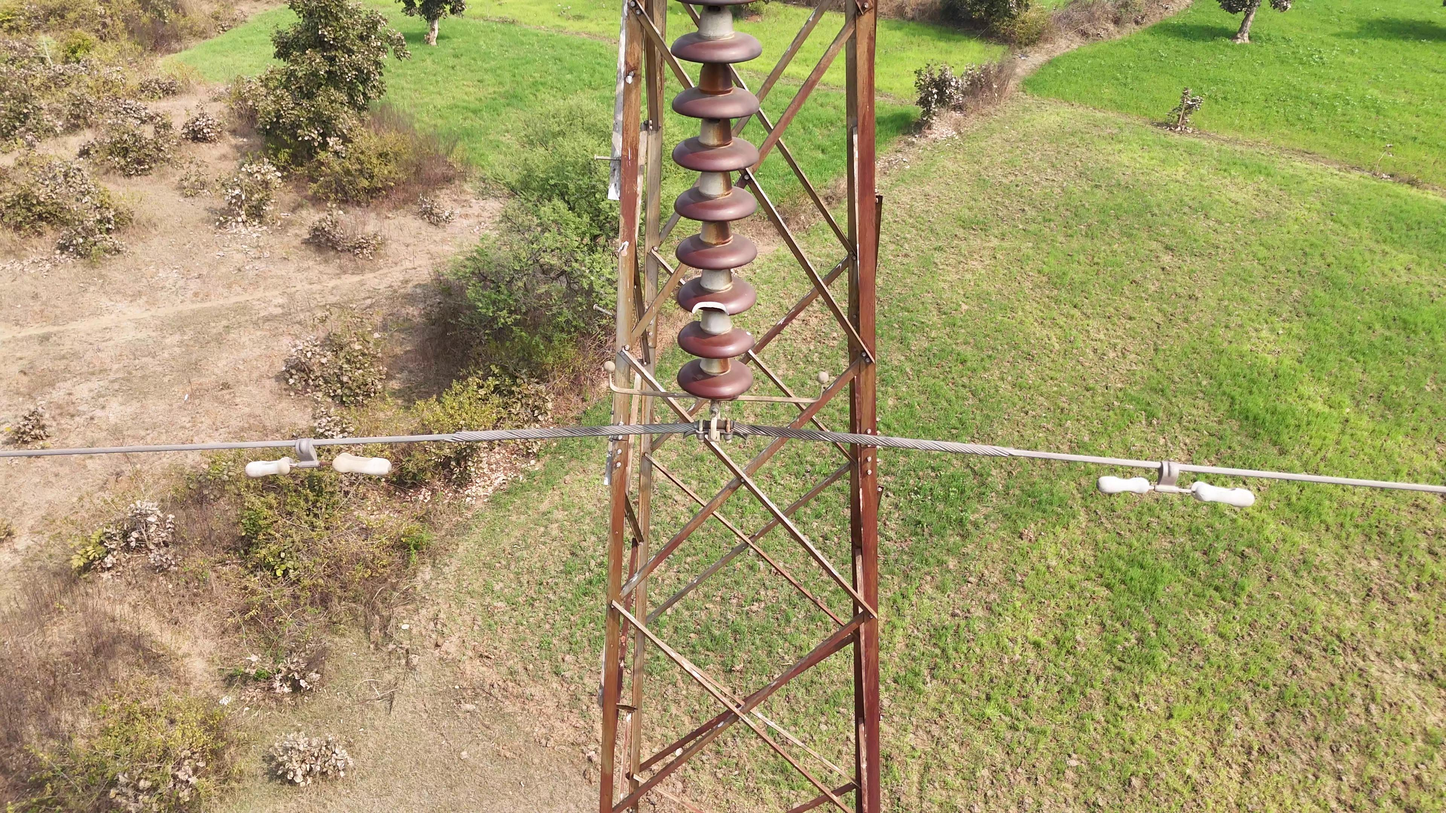broken_insulator: (671, 267, 761, 324)
